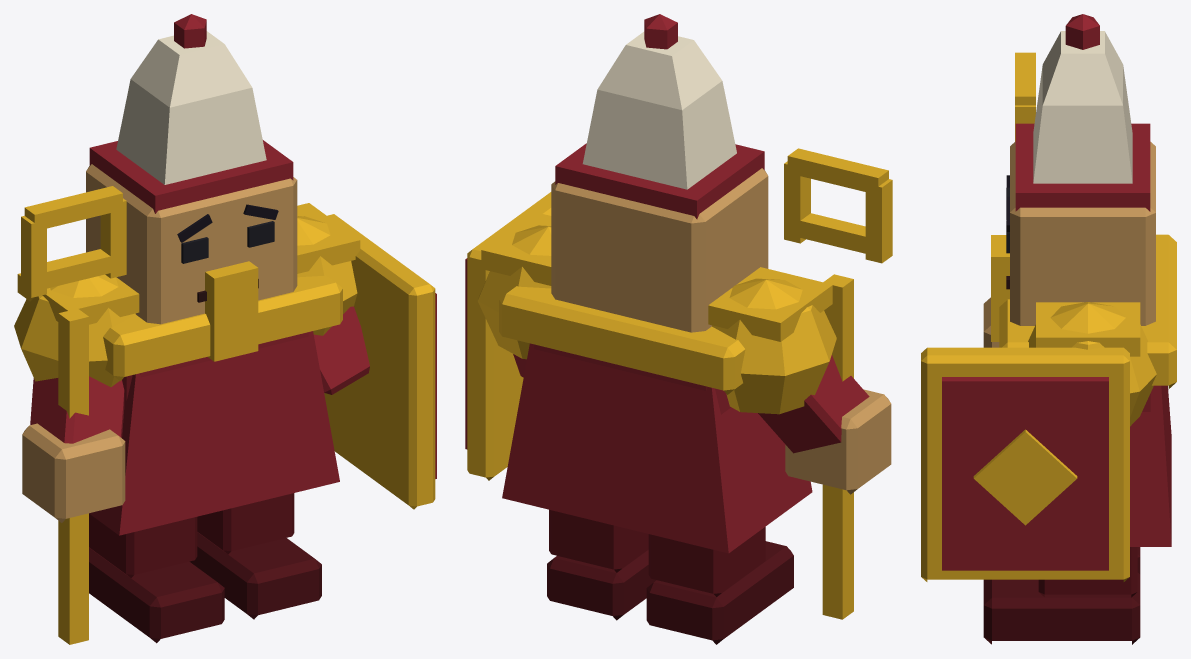
File: r5_mini_pharaoh_commander.glb
3 views of the same model, side by side, from view 1: azimuth 30°, elevation 25°; view 2: azimuth 150°, elevation 25°; view 3: azimuth 270°, elevation 25° (orthographic). The views are drawn at different scales.
Parts seen in each view (by area): view 1: r5_mini_pharaoh_commander_mesh; view 2: r5_mini_pharaoh_commander_mesh; view 3: r5_mini_pharaoh_commander_mesh.
Part boxes in pixels (x1,y1,x2,y2): r5_mini_pharaoh_commander_mesh: [14, 14, 436, 644]; r5_mini_pharaoh_commander_mesh: [465, 14, 892, 644]; r5_mini_pharaoh_commander_mesh: [921, 14, 1176, 644].
Bounding box in the file's own units: 3.13 × 4.6 × 1.8.
1 material, 1 textured.
